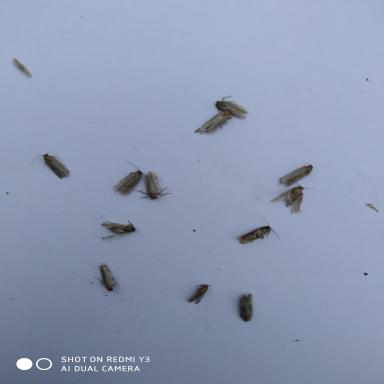pbw: (267, 179, 317, 217), (85, 259, 130, 299), (232, 212, 283, 246), (273, 154, 320, 189), (24, 150, 71, 184), (125, 168, 171, 202), (107, 158, 147, 196), (86, 215, 144, 241), (204, 92, 254, 122), (188, 108, 235, 136), (227, 289, 259, 326), (179, 278, 217, 306)
